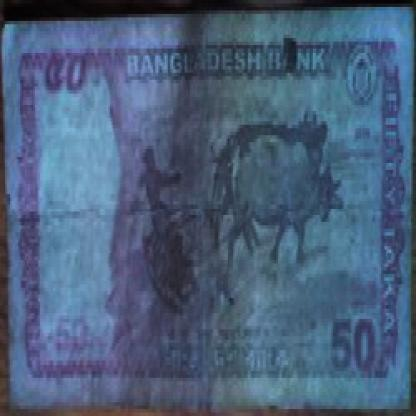Fifty taka: (324, 305, 382, 385), (40, 38, 98, 108)
